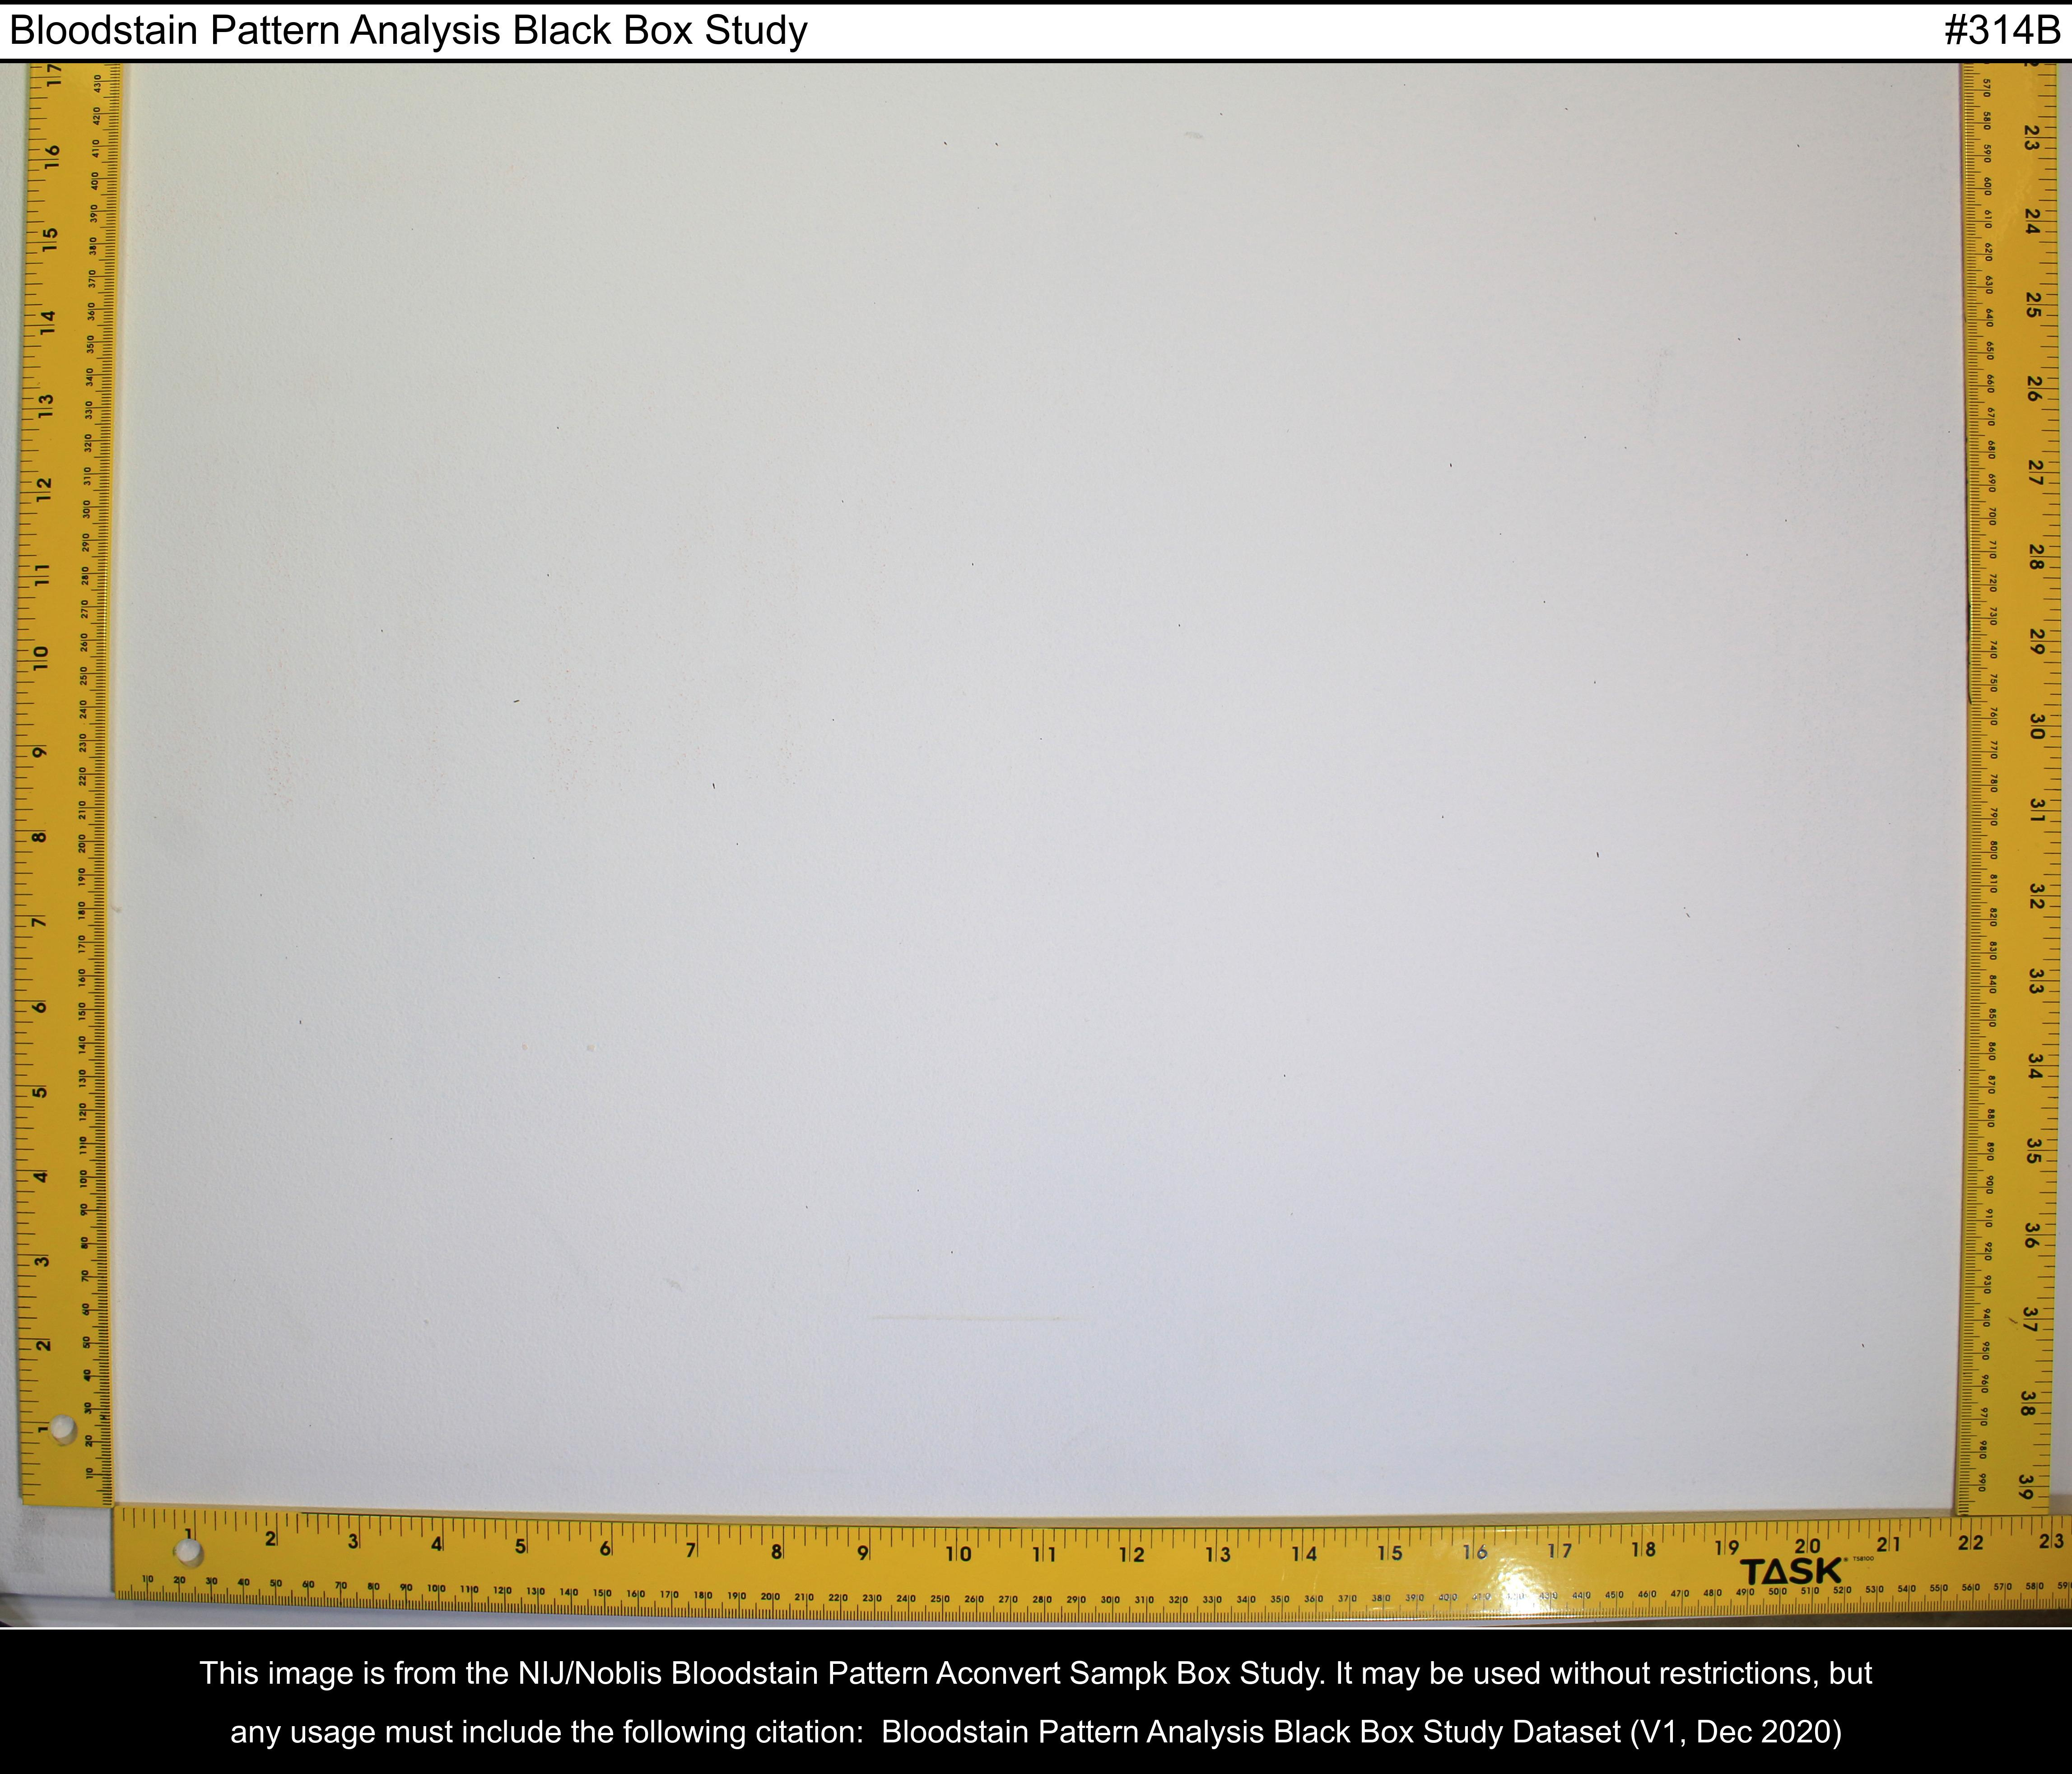Impact: (474, 1019, 639, 1081)
